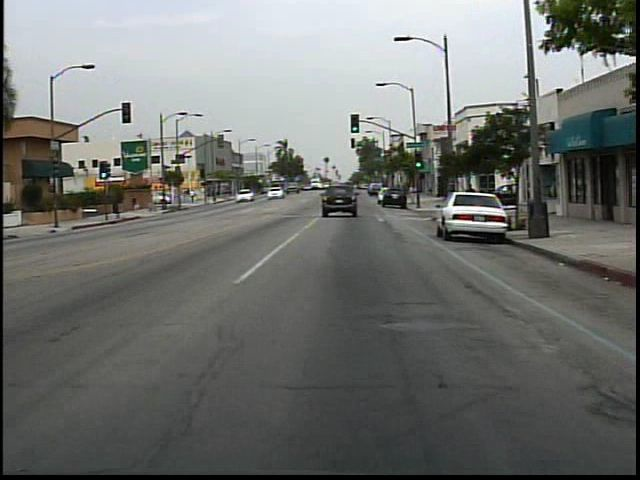person: (460, 178, 480, 217), (127, 192, 147, 220), (189, 188, 198, 206)
